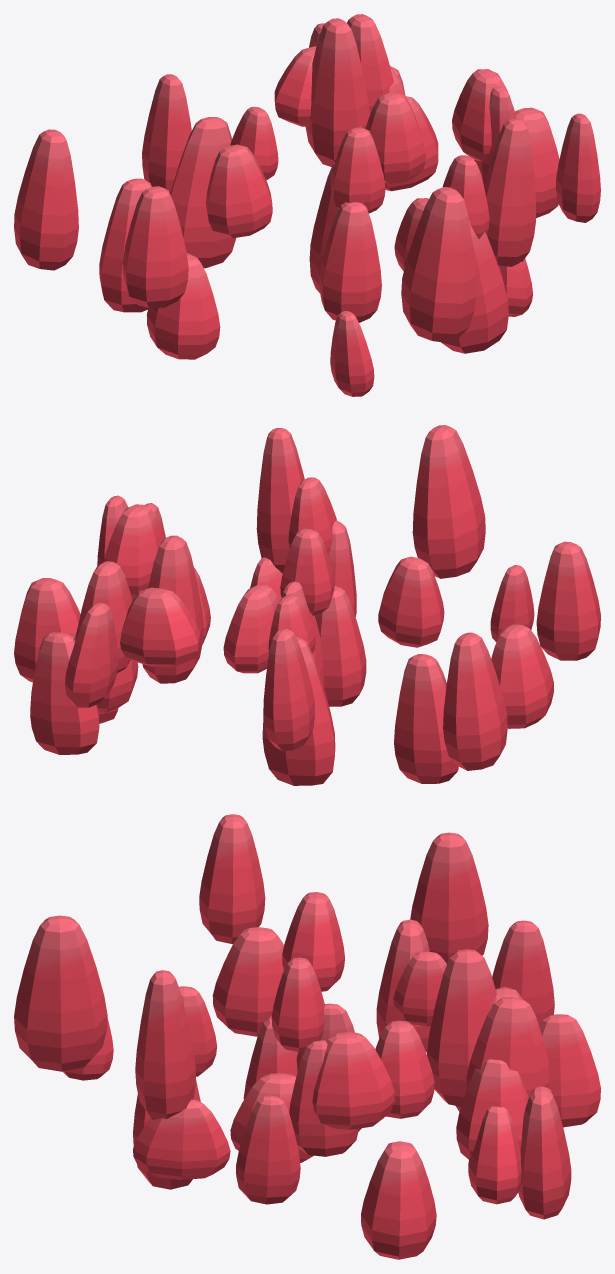
The model's file is pinkcoral3.glb.
The picture shows the model from 3 angles, top to bottom: view 1: azimuth 30°, elevation 25°; view 2: azimuth 150°, elevation 25°; view 3: azimuth 270°, elevation 25°; orthographic projection. The views are drawn at different scales.
Parts seen in each view (by area): view 1: coral 2.001; view 2: coral 2.001; view 3: coral 2.001.
Part boxes in pixels (left/top/right/bottom): coral 2.001: left=14, top=14, right=600, bottom=396; coral 2.001: left=14, top=425, right=600, bottom=785; coral 2.001: left=14, top=814, right=600, bottom=1259.
Size of the model in its own units: 10.76 by 4.45 by 9.98.
Materials: 1 (1 with a texture image).
